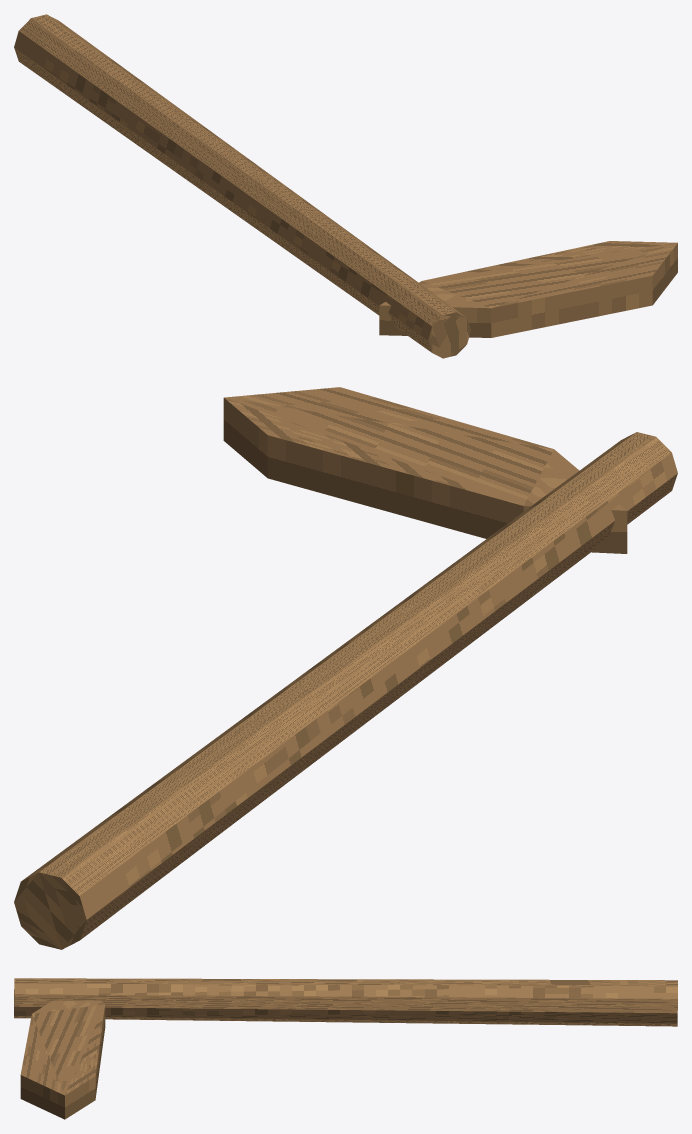
The model's file is hockey_stick.glb.
The picture shows the model from 3 angles, top to bottom: view 1: azimuth 30°, elevation 25°; view 2: azimuth 150°, elevation 25°; view 3: azimuth 270°, elevation 25°; orthographic projection. The views are drawn at different scales.
Visible parts, largest first — view 1: block_tapered shaft, block_curved hockey blade; view 2: block_tapered shaft, block_curved hockey blade; view 3: block_tapered shaft, block_curved hockey blade.
Part boxes in pixels (x1,y1,x2,y2): block_tapered shaft: (14,14,470,358); block_curved hockey blade: (379,241,677,337); block_tapered shaft: (14,432,677,949); block_curved hockey blade: (223,387,627,553); block_tapered shaft: (14,978,677,1026); block_curved hockey blade: (20,1001,105,1119).
Size of the model in its own units: 0.6077 by 0.1062 by 1.5.
Materials: 1 (1 with a texture image).
